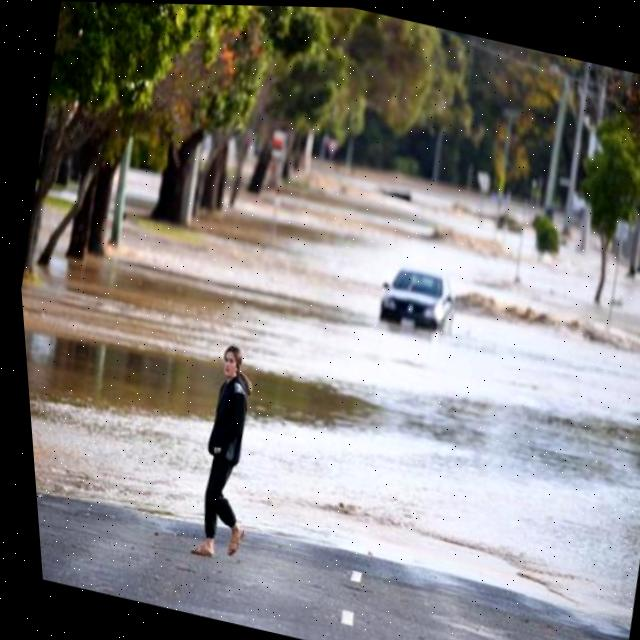civilian: (134, 309, 316, 583)
